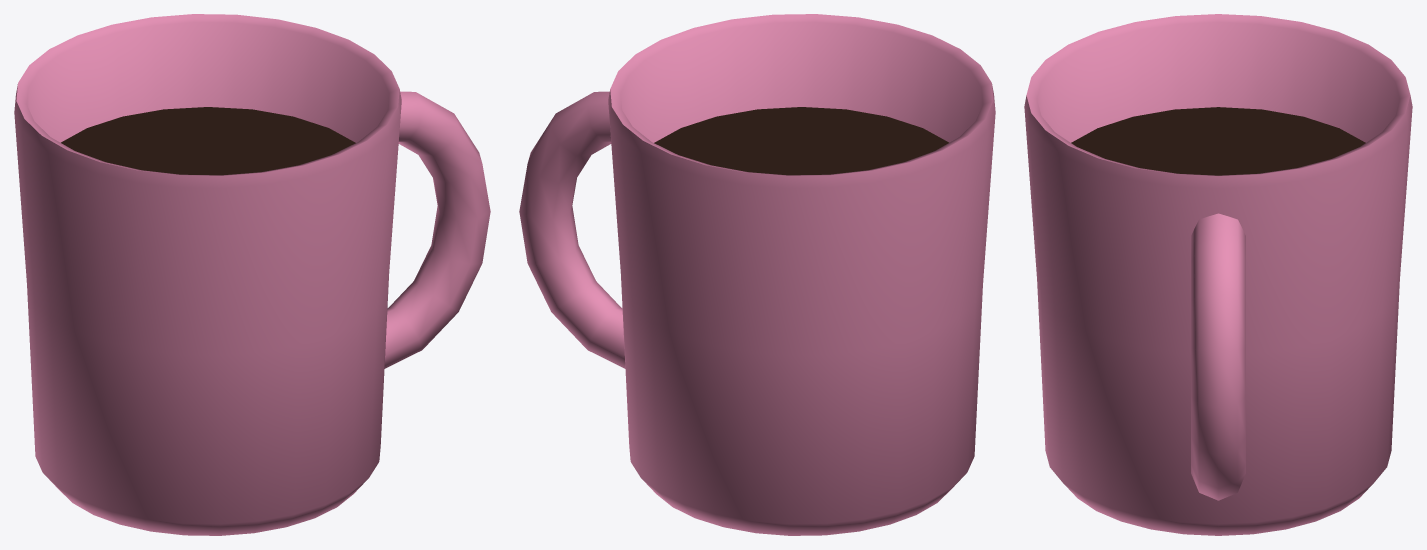
File: mug.fbx
3 renders of one model, left to right at view 1: azimuth 30°, elevation 25°; view 2: azimuth 150°, elevation 25°; view 3: azimuth 270°, elevation 25°, orthographic.
Visible parts, largest first — view 1: mug; view 2: mug; view 3: mug.
Part boxes in pixels (left/top/right/bottom): mug: left=14, top=14, right=490, bottom=535; mug: left=519, top=14, right=995, bottom=535; mug: left=1024, top=14, right=1412, bottom=535.
Bounding box in the file's own units: 0.1225 × 0.098 × 0.092.
